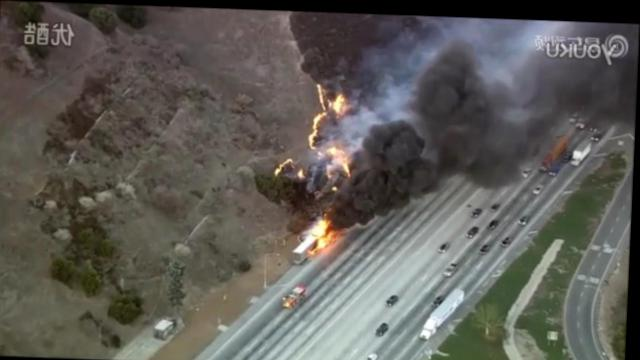fire: (317, 218, 332, 245), (329, 89, 346, 111), (329, 144, 347, 154)
